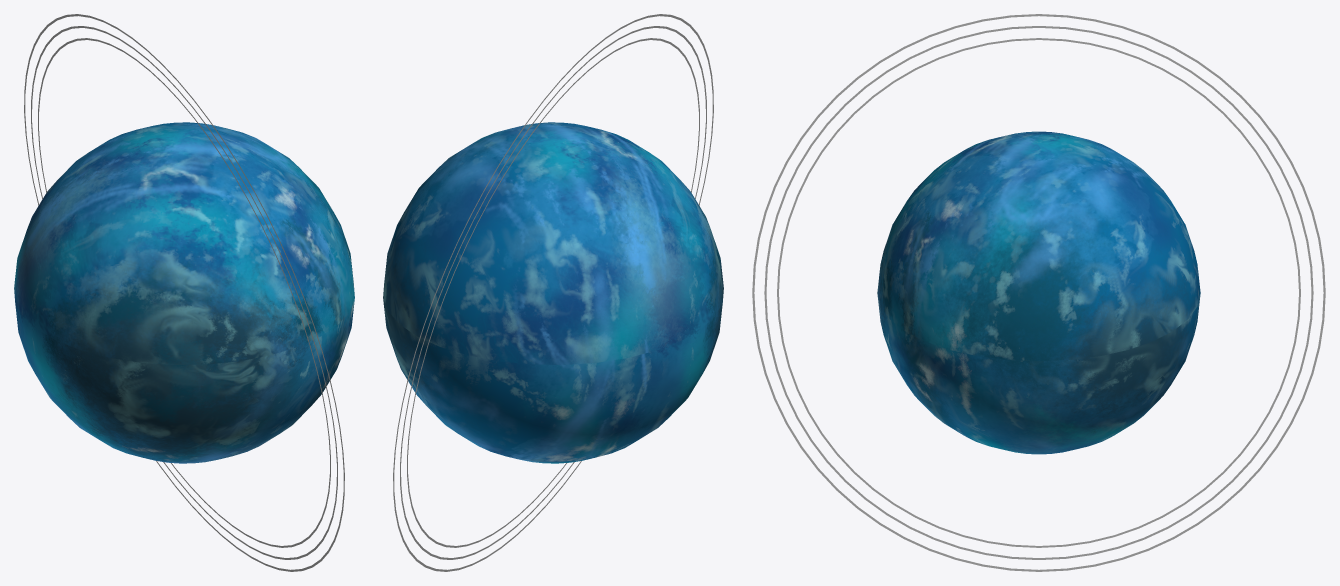
The model's file is Uranus.fbx.
The picture shows the model from 3 angles, left to right: view 1: azimuth 30°, elevation 25°; view 2: azimuth 150°, elevation 25°; view 3: azimuth 270°, elevation 25°; orthographic projection. The views are drawn at different scales.
Visible parts, largest first — view 1: Sphere.001, Circle, Circle.001, Circle.002; view 2: Sphere.001, Circle, Circle.001, Circle.002; view 3: Sphere.001, Circle, Circle.001, Circle.002.
Boxes of the visible parts, x1,y1,x2,y2 form: Sphere.001: [14, 122, 354, 463]; Circle: [24, 14, 344, 571]; Circle.001: [31, 26, 337, 559]; Circle.002: [38, 38, 330, 547]; Sphere.001: [383, 122, 723, 463]; Circle: [393, 14, 713, 571]; Circle.001: [400, 26, 706, 559]; Circle.002: [407, 38, 699, 547]; Sphere.001: [877, 131, 1200, 454]; Circle: [752, 14, 1325, 571]; Circle.001: [764, 26, 1313, 559]; Circle.002: [777, 38, 1300, 547].
Bounding box in the file's own units: 17385 × 30207 × 30843.
2 materials, 1 textured.
